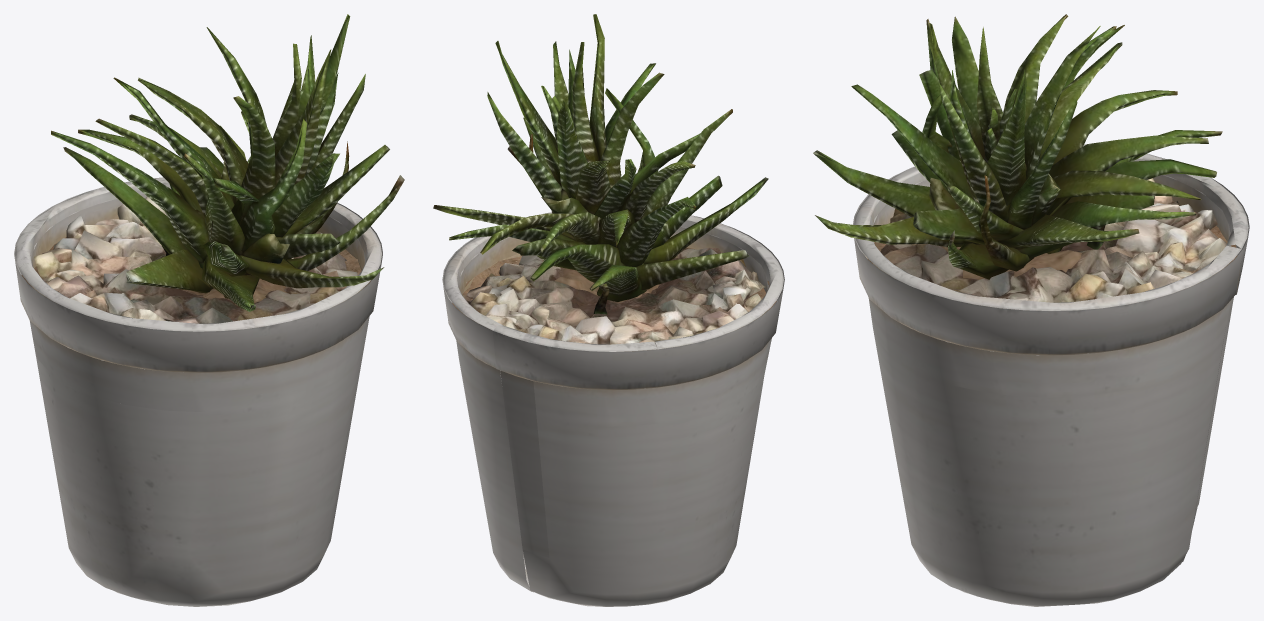
3 views of the same model, side by side, from view 1: azimuth 30°, elevation 25°; view 2: azimuth 150°, elevation 25°; view 3: azimuth 270°, elevation 25° (orthographic). The views are drawn at different scales.
Parts seen in each view (by area): view 1: potted_plant_04_ground; view 2: potted_plant_04_ground; view 3: potted_plant_04_ground.
Part boxes in pixels (<box>): potted_plant_04_ground: <box>14,14,404,606</box>; potted_plant_04_ground: <box>433,14,784,606</box>; potted_plant_04_ground: <box>813,14,1249,606</box>.
Size of the model in its own units: 0.168 by 0.2676 by 0.1846.
Materials: 1 (1 with a texture image).
